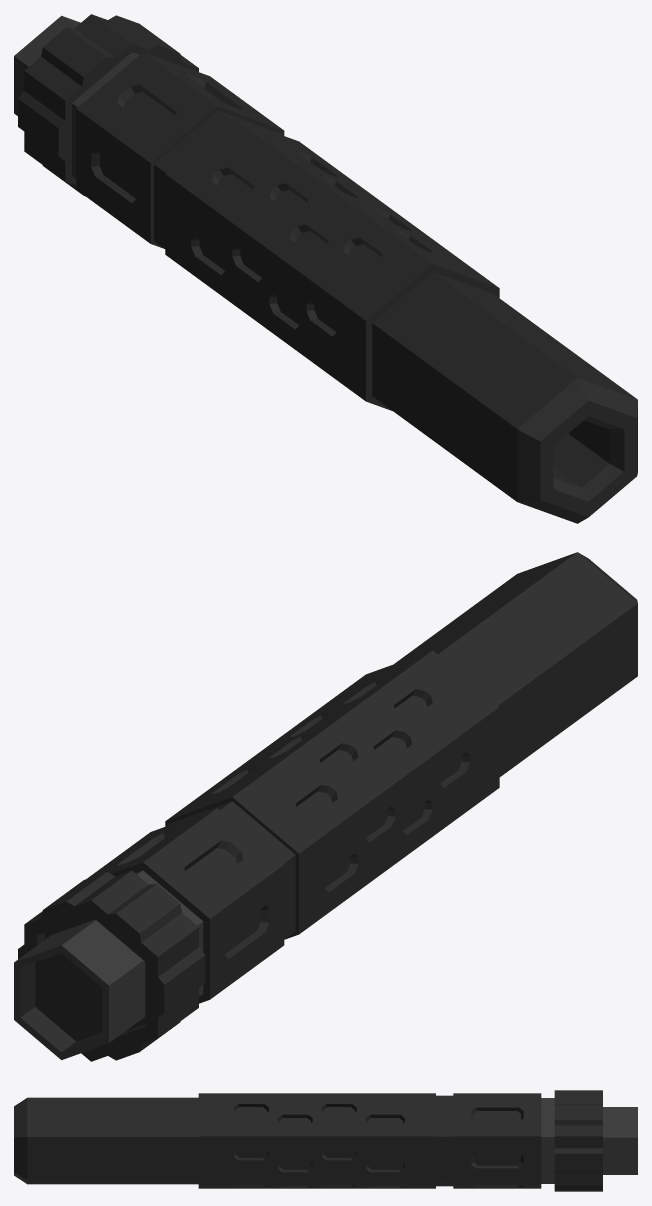
The model's file is Muzzle_Pistol_Suppressor_A.fbx.
3 views of the same model, one above another, from view 1: azimuth 30°, elevation 25°; view 2: azimuth 150°, elevation 25°; view 3: azimuth 270°, elevation 25° (orthographic). The views are drawn at different scales.
Parts seen in each view (by area): view 1: Muzzle_Pistol_Suppressor_A; view 2: Muzzle_Pistol_Suppressor_A; view 3: Muzzle_Pistol_Suppressor_A.
Boxes of the visible parts, x1,y1,x2,y2 form: Muzzle_Pistol_Suppressor_A: (14, 14, 637, 523); Muzzle_Pistol_Suppressor_A: (14, 552, 637, 1061); Muzzle_Pistol_Suppressor_A: (14, 1090, 637, 1191).
Size of the model in its own units: 0.0285 by 0.03 by 0.1775.
